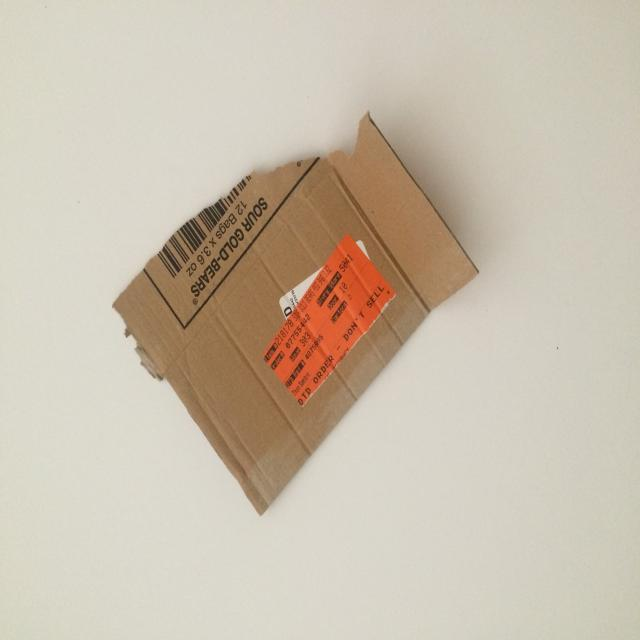cardboard: (111, 109, 480, 516)
